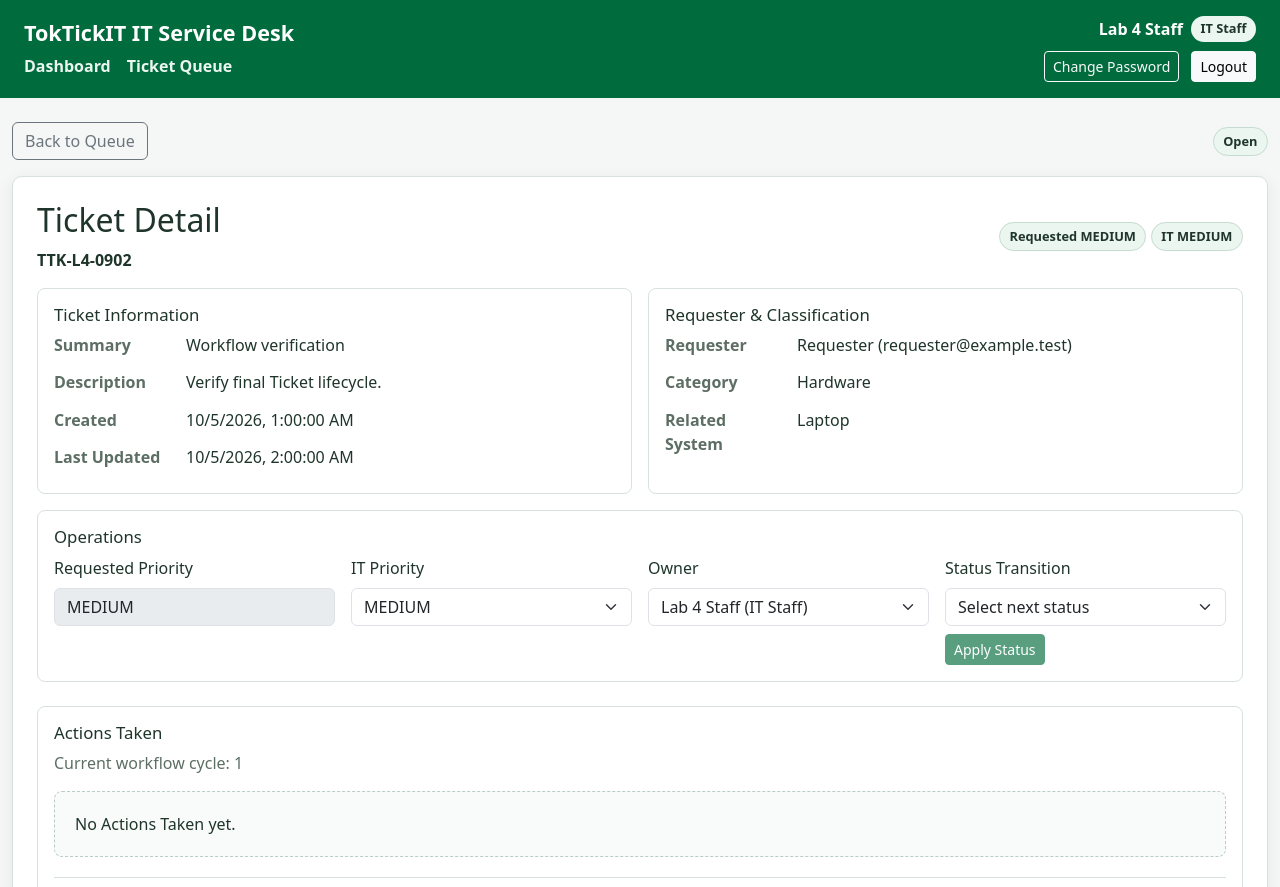
Test case: Lab 4 final Ticket workflow UI › UI-04 explains a server-side resolution gate rejection
Select "RESOLVED" in the dropdown labelled "Status Transition" at [1086, 607], box [945,588,1226,626]
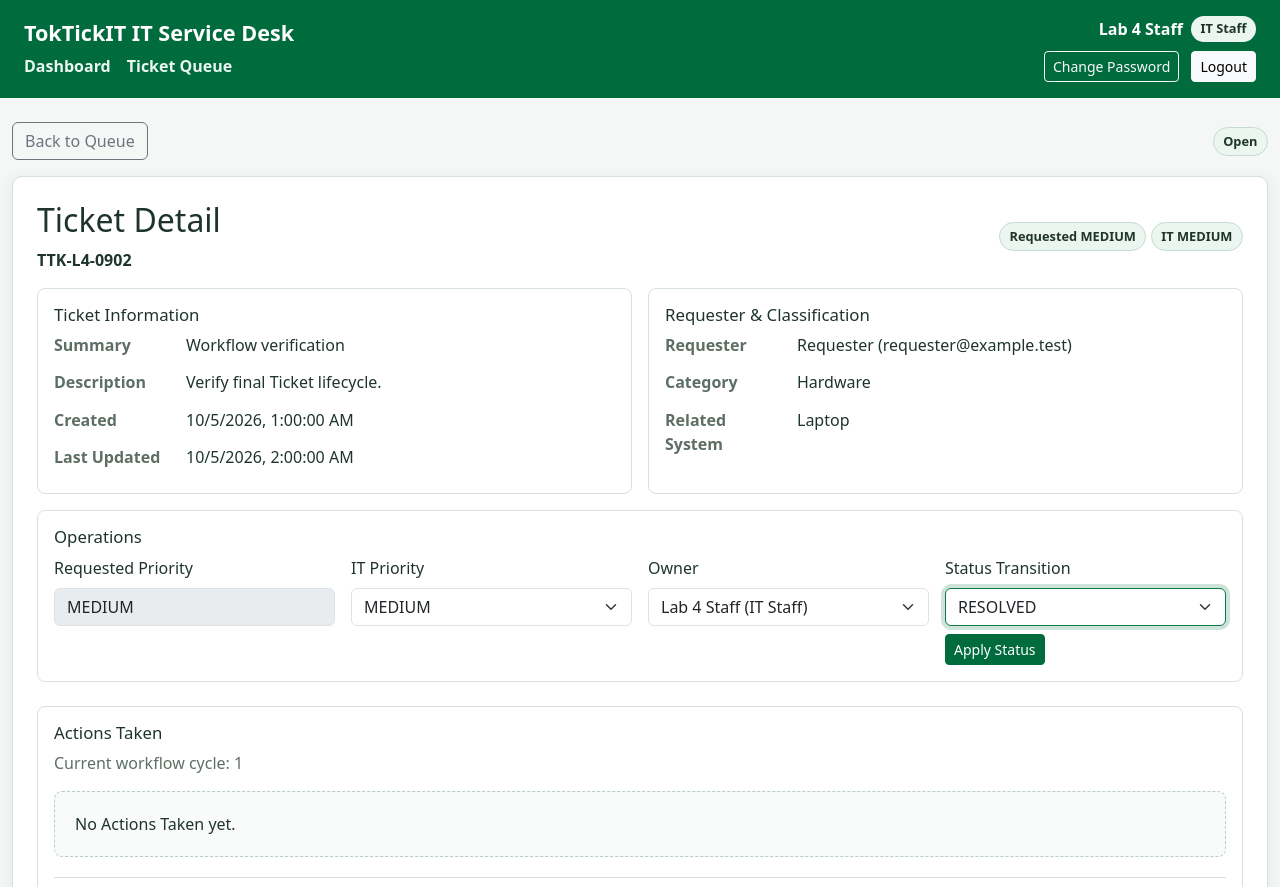
Click the button "Apply Status" at [995, 649], box [945,634,1045,665]
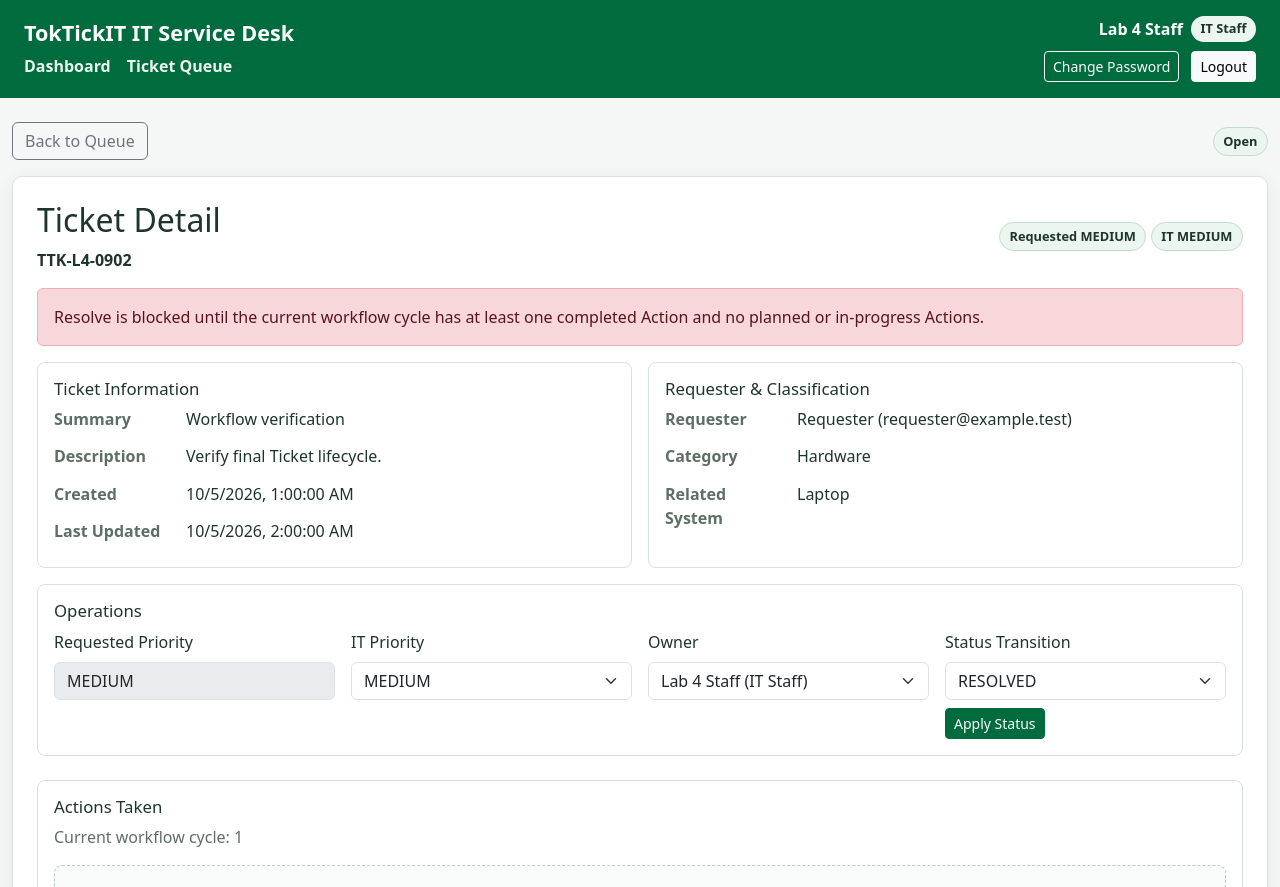
Expected: the text "Resolve is blocked until the current workflow cycle" is shown, [54,306,984,328]
